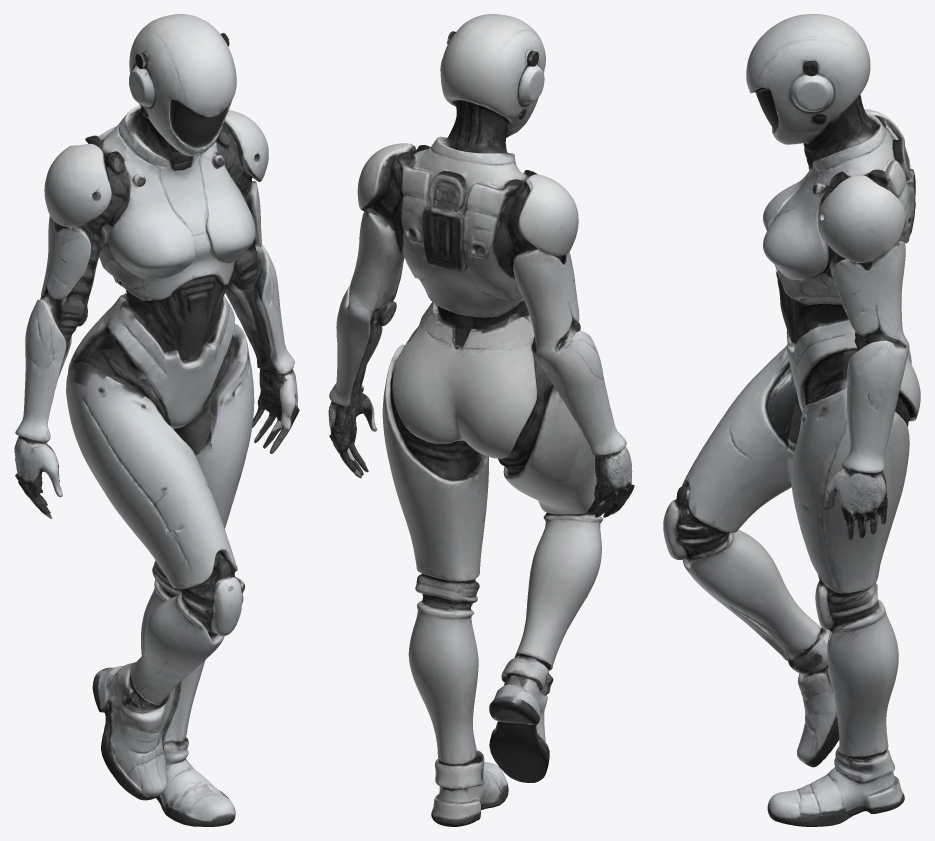
The model's file is model-web.glb.
The picture shows the model from 3 angles, left to right: view 1: azimuth 30°, elevation 25°; view 2: azimuth 150°, elevation 25°; view 3: azimuth 270°, elevation 25°; orthographic projection.
Parts seen in each view (by area): view 1: tmpqp2c0vpmobj; view 2: tmpqp2c0vpmobj; view 3: tmpqp2c0vpmobj.
Part boxes in pixels (x1,y1,x2,y2): tmpqp2c0vpmobj: [14, 14, 299, 826]; tmpqp2c0vpmobj: [328, 14, 634, 826]; tmpqp2c0vpmobj: [663, 14, 920, 826].
Size of the model in its own units: 0.3794 by 1 by 0.2967.
1 material, 1 textured.
